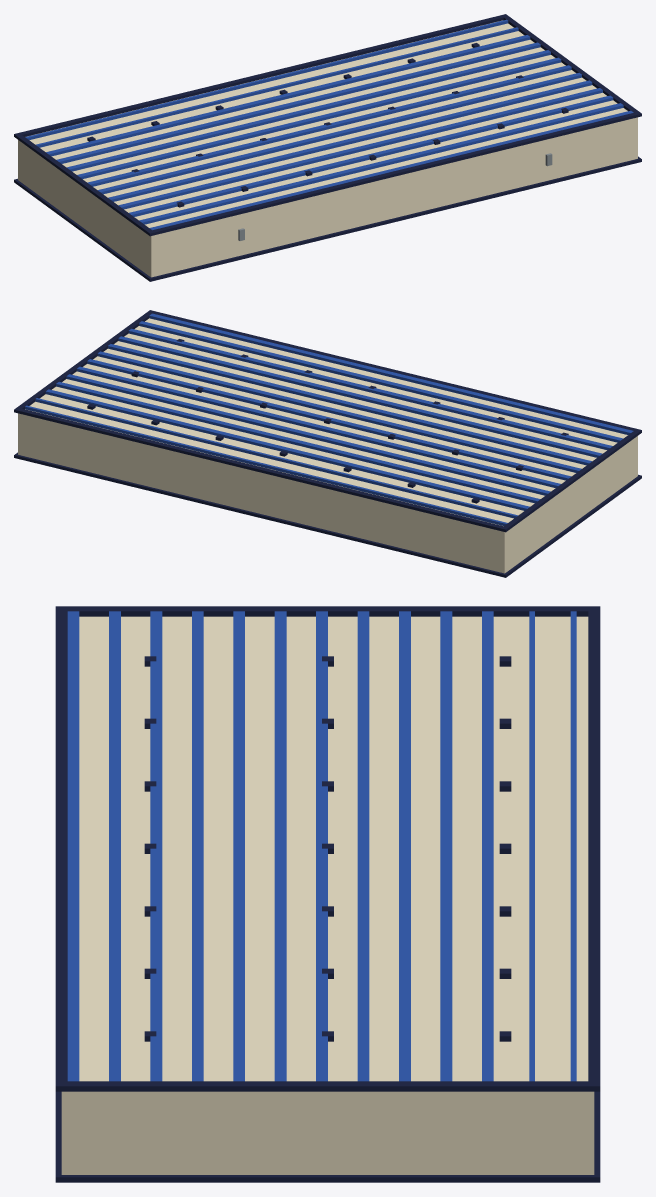
Rendered from mattress.glb.
The picture shows the model from 3 angles, top to bottom: view 1: azimuth 30°, elevation 25°; view 2: azimuth 150°, elevation 25°; view 3: azimuth 270°, elevation 25°; orthographic projection. The views are drawn at different scales.
Parts seen in each view (by area): view 1: mattress:compound; view 2: mattress:compound; view 3: mattress:compound.
Boxes of the visible parts, x1,y1,x2,y2 form: mattress:compound: (14, 14, 641, 281); mattress:compound: (14, 310, 641, 577); mattress:compound: (55, 606, 600, 1182).
Size of the model in its own units: 1.92 by 0.18 by 0.92.
